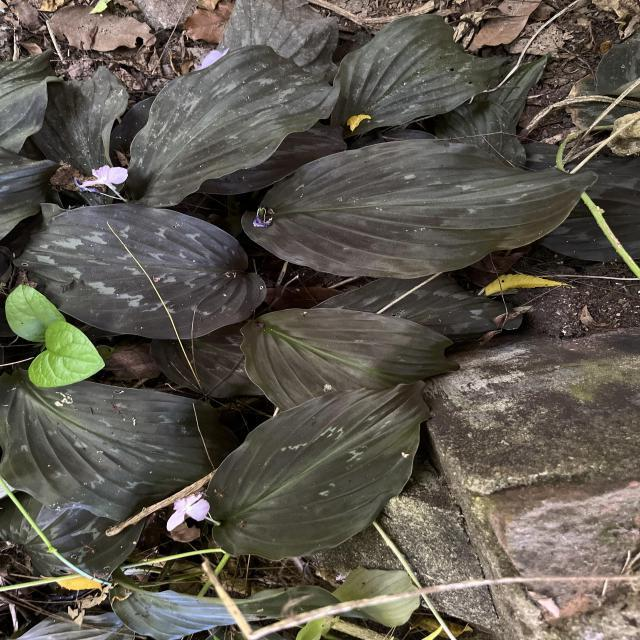Kaempferia galanga linn: (239, 137, 606, 282), (202, 376, 432, 564), (122, 41, 342, 210), (10, 201, 269, 343), (236, 304, 467, 412)
